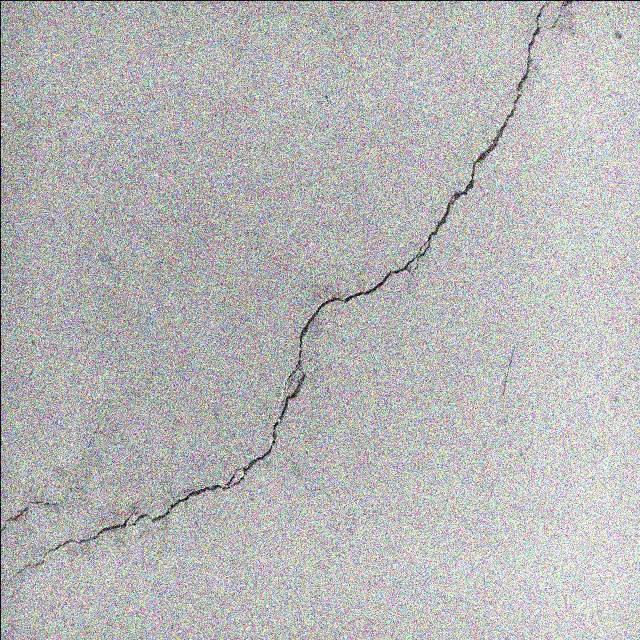SurfaceCrack: (0, 1, 626, 640)
